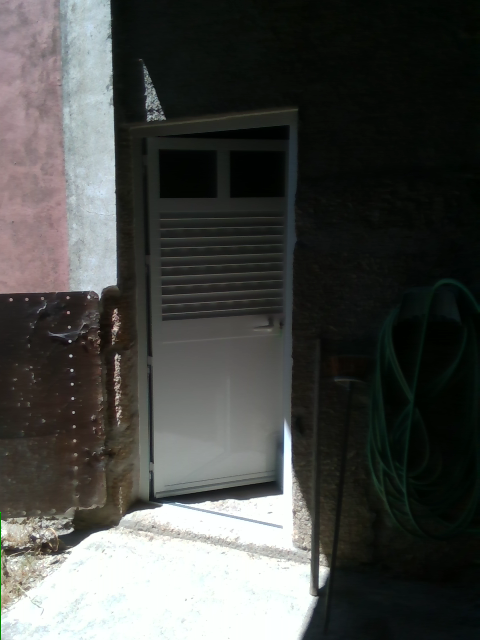semi: (125, 108, 300, 551)
